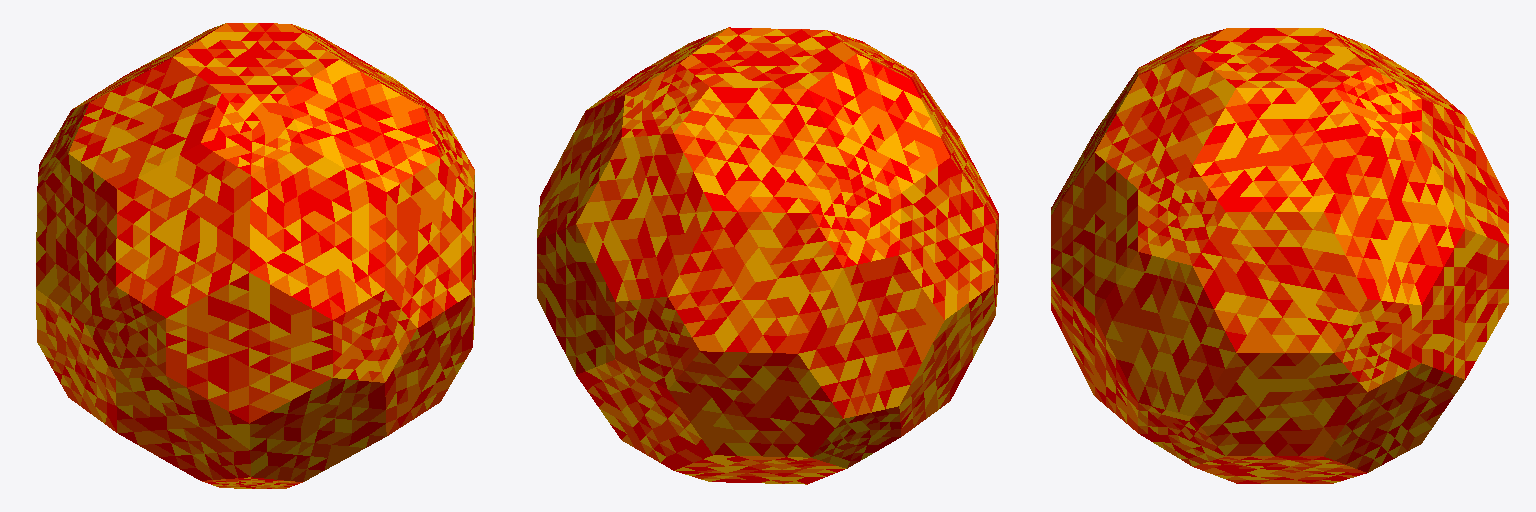
Rendered from testfc.obj.
3 renders of one model, left to right at view 1: azimuth 30°, elevation 25°; view 2: azimuth 150°, elevation 25°; view 3: azimuth 270°, elevation 25°, orthographic.
Parts seen in each view (by area): view 1: 0; view 2: 0; view 3: 0.
Boxes of the visible parts, box(x1,y1,x2,y2) form: 0: box(36, 23, 475, 488); 0: box(537, 27, 998, 484); 0: box(1051, 28, 1508, 483).
Size of the model in its own units: 445 by 424 by 445.